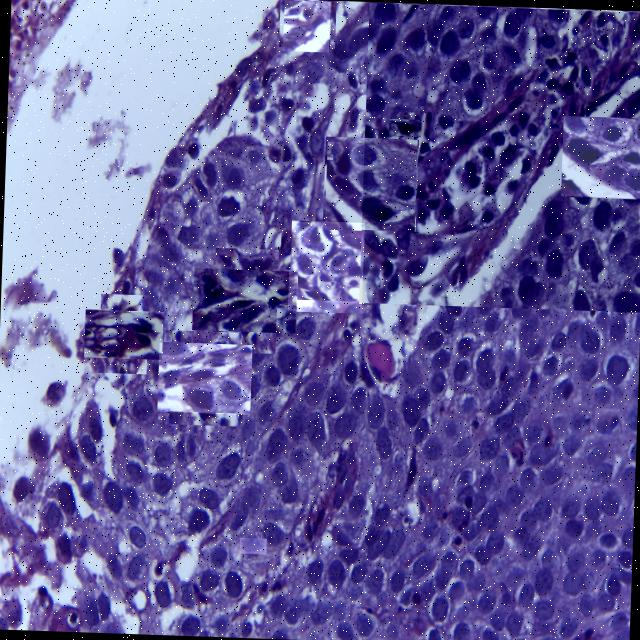Multiple Nucleol: (594, 408, 619, 437), (239, 538, 266, 553)
Nuclear Hyperchromatism: (359, 11, 640, 305), (326, 136, 415, 230), (289, 221, 363, 312), (158, 343, 251, 412), (564, 115, 640, 198), (193, 269, 296, 330), (84, 312, 162, 357), (283, 0, 330, 51), (389, 118, 421, 137)
